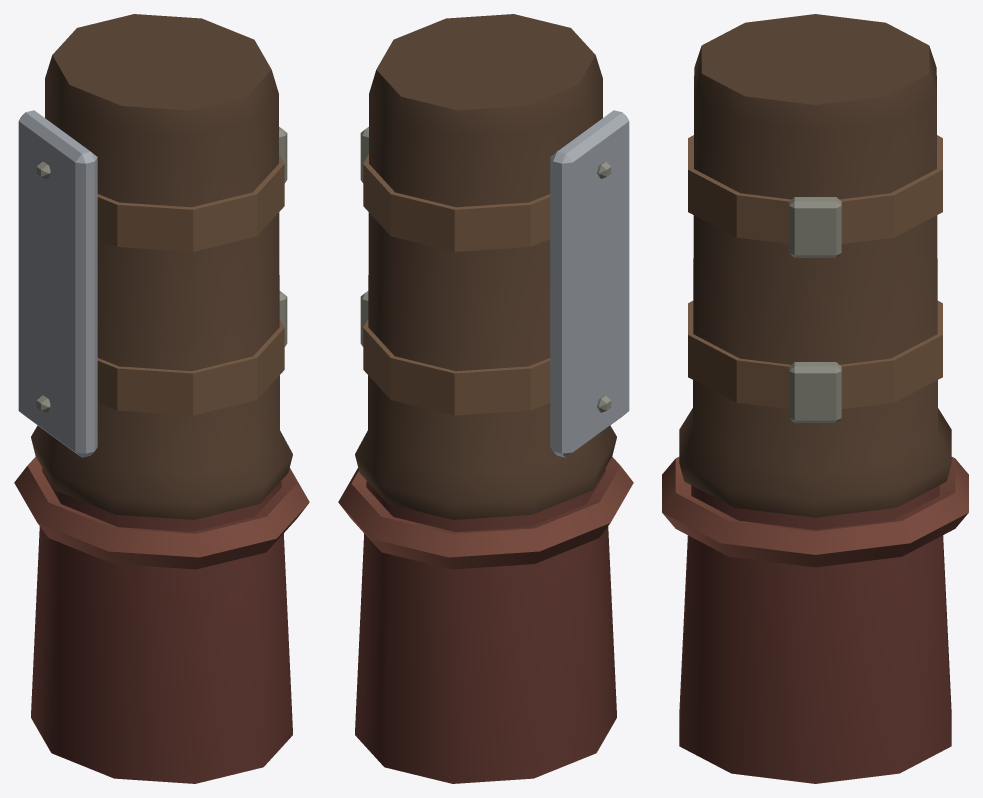
Rendered from forearm.glb.
3 renders of one model, left to right at view 1: azimuth 30°, elevation 25°; view 2: azimuth 150°, elevation 25°; view 3: azimuth 270°, elevation 25°, orthographic.
Parts seen in each view (by area): view 1: forearm; view 2: forearm; view 3: forearm.
Boxes of the visible parts, x1,y1,x2,y2 form: forearm: (14,14,309,783); forearm: (338,14,633,783); forearm: (662,14,968,783).
Bounding box in the file's own units: 0.1116 × 0.284 × 0.1179.
